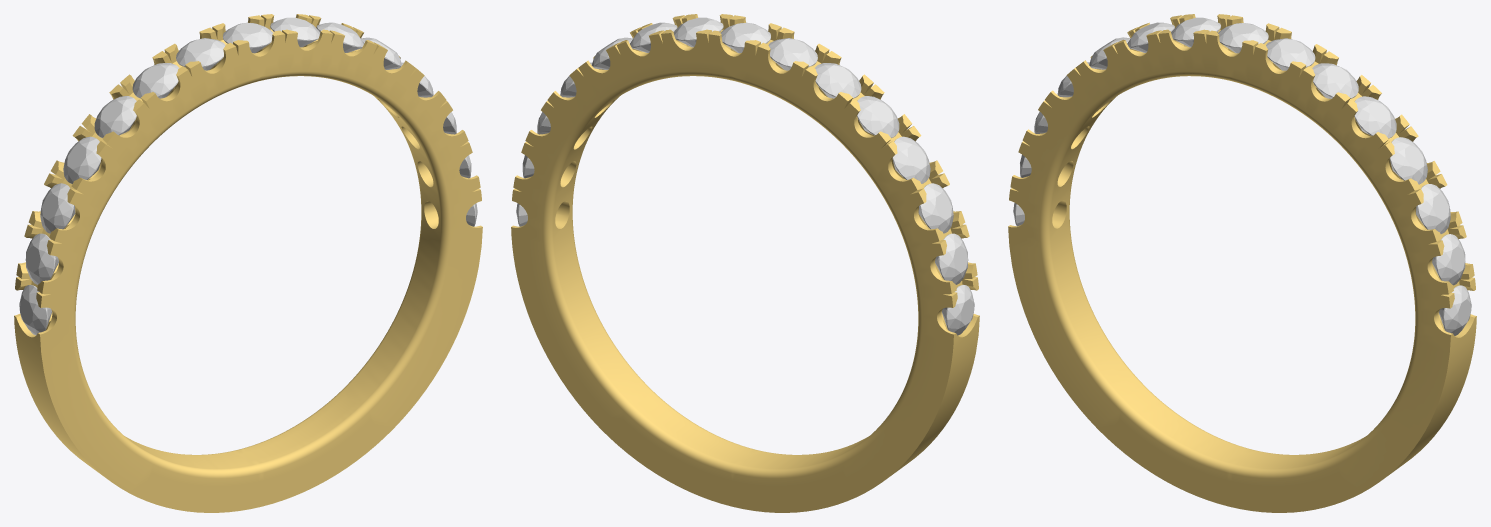
File: StephanieWBdia_blender.glb
3 views of the same model, side by side, from view 1: azimuth 30°, elevation 25°; view 2: azimuth 150°, elevation 25°; view 3: azimuth 330°, elevation 25° (orthographic).
Visible parts, largest first — view 1: Stephanie YG wb for 3d model, Stephanie dia wb for 3d model.011, Stephanie dia wb for 3d model.010, Stephanie dia wb for 3d model.012, Stephanie dia wb for 3d model.009, Stephanie dia wb for 3d model.013, Stephanie dia wb for 3d model.008, Stephanie dia wb for 3d model.014, Stephanie dia wb for 3d model.007, Stephanie dia wb for 3d model.006, Stephanie dia wb for 3d model.005; view 2: Stephanie YG wb for 3d model, Stephanie dia wb for 3d model.011, Stephanie dia wb for 3d model.010, Stephanie dia wb for 3d model.012, Stephanie dia wb for 3d model.009, Stephanie dia wb for 3d model.013, Stephanie dia wb for 3d model.008, Stephanie dia wb for 3d model.014, Stephanie dia wb for 3d model.007, Stephanie dia wb for 3d model.006, Stephanie dia wb for 3d model.005; view 3: Stephanie YG wb for 3d model, Stephanie dia wb for 3d model.003, Stephanie dia wb for 3d model.004, Stephanie dia wb for 3d model.002, Stephanie dia wb for 3d model.005, Stephanie dia wb for 3d model.001, Stephanie dia wb for 3d model.006, Stephanie dia wb for 3d model, Stephanie dia wb for 3d model.007, Stephanie dia wb for 3d model.008, Stephanie dia wb for 3d model.009.
Part boxes in pixels (<box>): Stephanie YG wb for 3d model: <box>14,14,482,512</box>; Stephanie dia wb for 3d model.011: <box>63,136,101,183</box>; Stephanie dia wb for 3d model.010: <box>94,96,136,137</box>; Stephanie dia wb for 3d model.012: <box>40,183,75,233</box>; Stephanie dia wb for 3d model.009: <box>132,63,179,98</box>; Stephanie dia wb for 3d model.013: <box>25,233,58,284</box>; Stephanie dia wb for 3d model.008: <box>176,38,225,70</box>; Stephanie dia wb for 3d model.014: <box>19,284,51,335</box>; Stephanie dia wb for 3d model.007: <box>223,22,273,53</box>; Stephanie dia wb for 3d model.006: <box>270,17,319,47</box>; Stephanie dia wb for 3d model.005: <box>316,22,363,52</box>; Stephanie YG wb for 3d model: <box>511,14,979,512</box>; Stephanie dia wb for 3d model.011: <box>892,136,930,183</box>; Stephanie dia wb for 3d model.010: <box>857,96,899,137</box>; Stephanie dia wb for 3d model.012: <box>918,183,953,233</box>; Stephanie dia wb for 3d model.009: <box>814,63,861,98</box>; Stephanie dia wb for 3d model.013: <box>935,233,968,284</box>; Stephanie dia wb for 3d model.008: <box>768,38,817,70</box>; Stephanie dia wb for 3d model.014: <box>942,284,974,335</box>; Stephanie dia wb for 3d model.007: <box>720,22,770,53</box>; Stephanie dia wb for 3d model.006: <box>674,17,723,47</box>; Stephanie dia wb for 3d model.005: <box>630,22,677,52</box>; Stephanie YG wb for 3d model: <box>1008,14,1476,512</box>; Stephanie dia wb for 3d model.003: <box>1389,137,1427,184</box>; Stephanie dia wb for 3d model.004: <box>1354,96,1396,138</box>; Stephanie dia wb for 3d model.002: <box>1416,184,1450,233</box>; Stephanie dia wb for 3d model.005: <box>1312,63,1358,98</box>; Stephanie dia wb for 3d model.001: <box>1432,234,1465,285</box>; Stephanie dia wb for 3d model.006: <box>1266,38,1315,70</box>; Stephanie dia wb for 3d model: <box>1438,285,1471,335</box>; Stephanie dia wb for 3d model.007: <box>1218,23,1268,53</box>; Stephanie dia wb for 3d model.008: <box>1171,17,1220,47</box>; Stephanie dia wb for 3d model.009: <box>1127,22,1174,52</box>.
Size of the model in its own units: 20.8 by 20.95 by 2.1.
